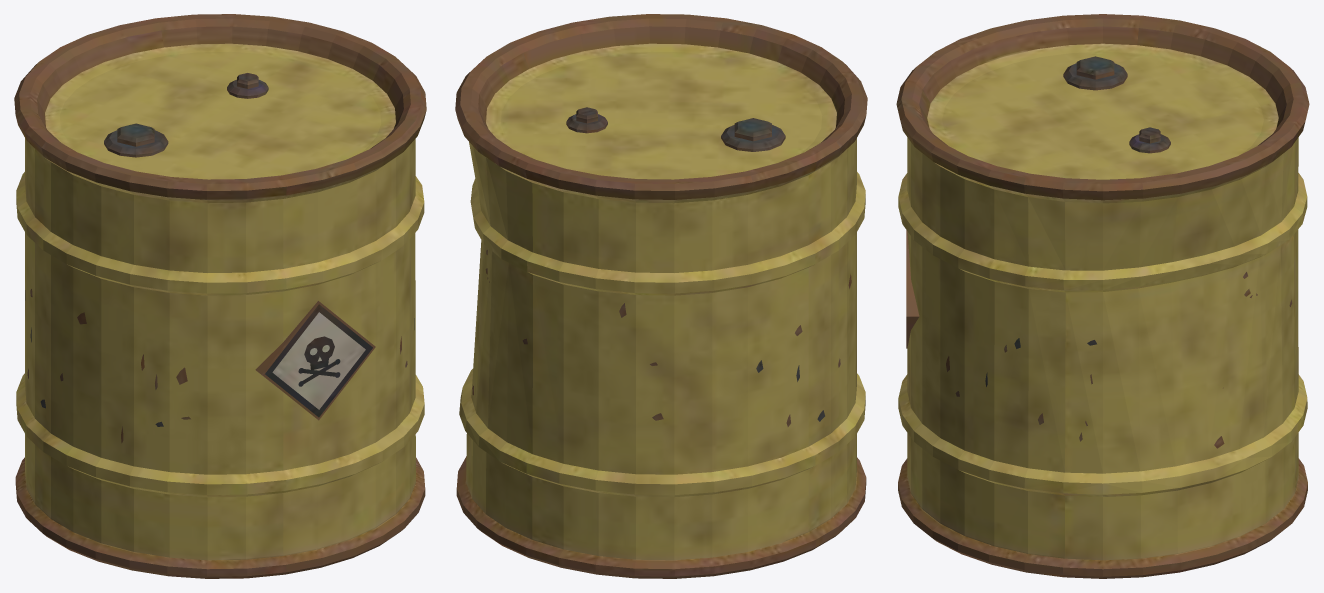
The model's file is Y13_chemical_drums_v2.glb.
The picture shows the model from 3 angles, left to right: view 1: azimuth 30°, elevation 25°; view 2: azimuth 150°, elevation 25°; view 3: azimuth 270°, elevation 25°; orthographic projection.
Visible parts, largest first — view 1: Chemical drum; view 2: Chemical drum; view 3: Chemical drum.
Part boxes in pixels (x1,y1,x2,y2): Chemical drum: (14,14,426,578); Chemical drum: (455,14,867,578); Chemical drum: (896,14,1309,578).
Bounding box in the file's own units: 0.9477 × 1 × 0.9477.
Materials: 5 (5 with a texture image).
